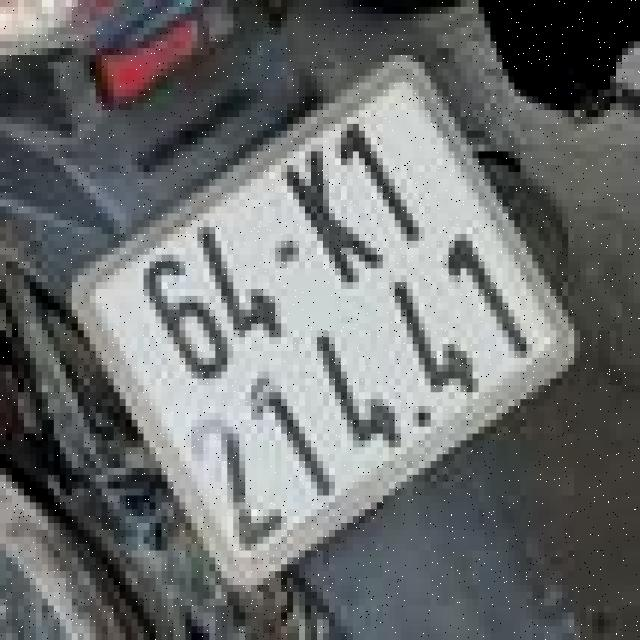1: (234, 357, 356, 518), (433, 205, 546, 375), (322, 100, 441, 259)
2: (174, 389, 306, 563)
4: (301, 306, 416, 474), (186, 199, 298, 362), (381, 257, 490, 422)
6: (131, 234, 244, 397)
K: (270, 130, 394, 301)
